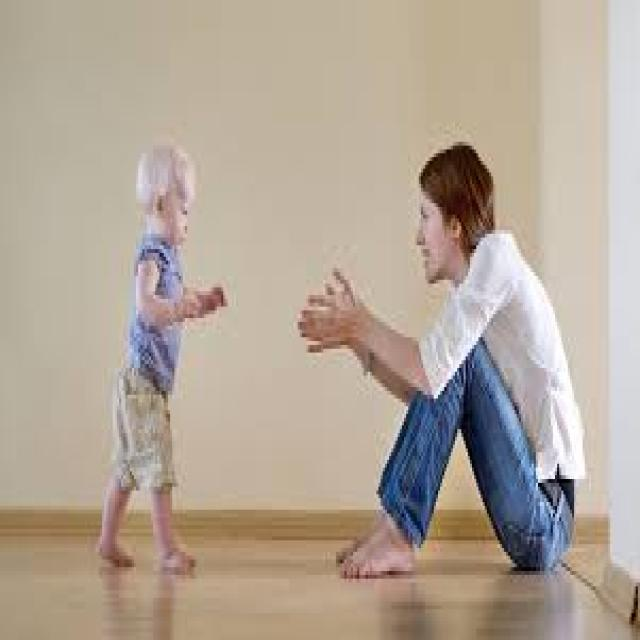Person: (301, 144, 586, 572), (99, 143, 226, 572)
